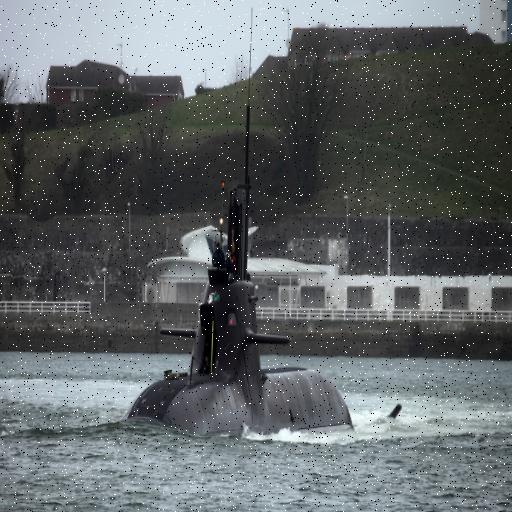submarine: (118, 3, 395, 443)
